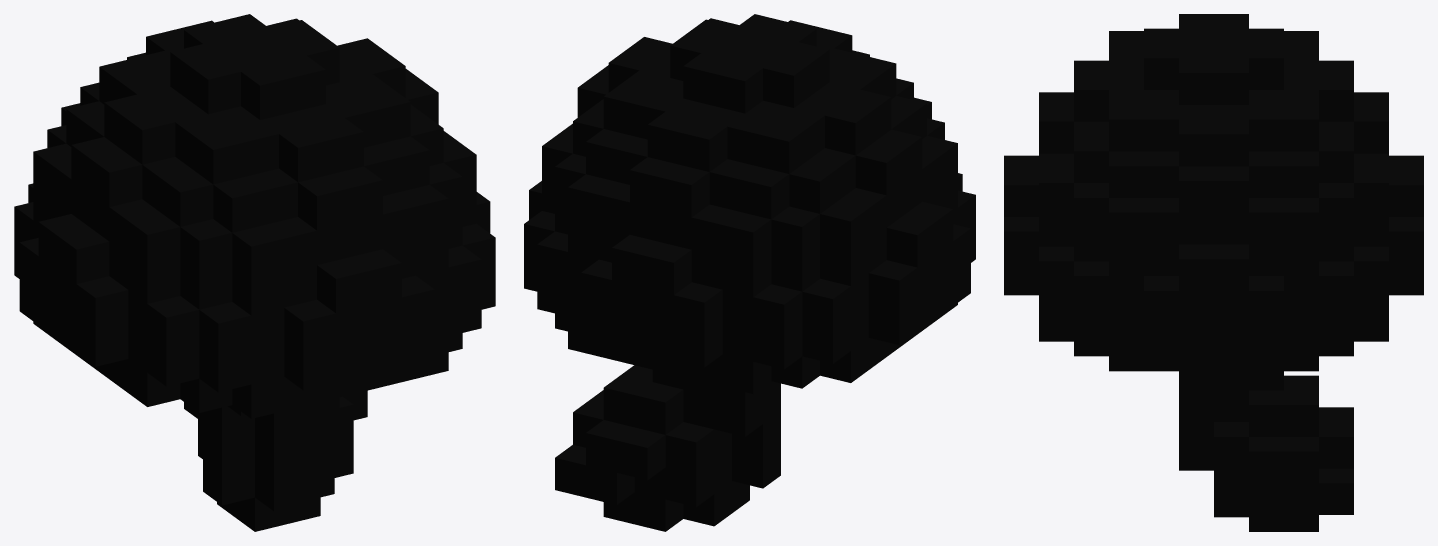
File: Mushroom.obj
The picture shows the model from 3 angles, left to right: view 1: azimuth 30°, elevation 25°; view 2: azimuth 150°, elevation 25°; view 3: azimuth 270°, elevation 25°; orthographic projection. The views are drawn at different scales.
Bounding box in the file's own units: 1.2 × 1.4 × 1.2.
